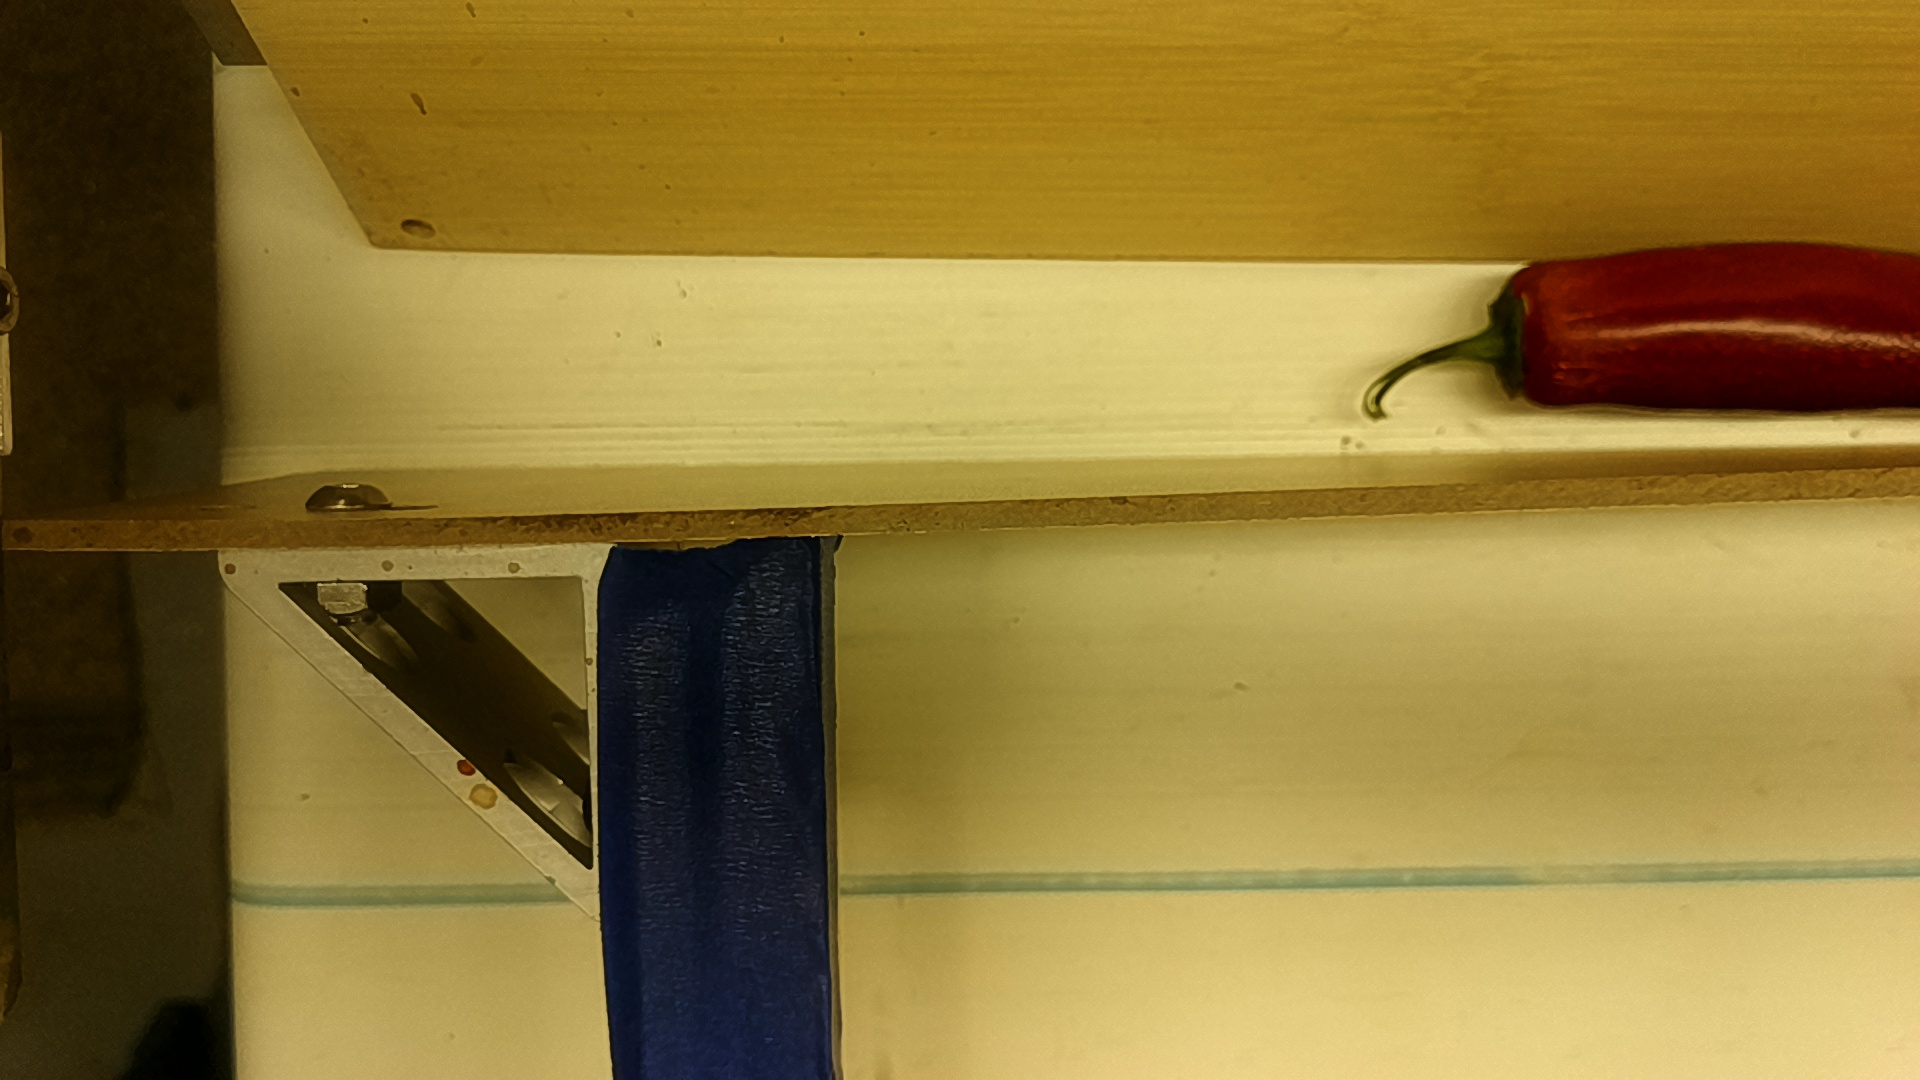Cut Point: (1481, 253, 1564, 410)
